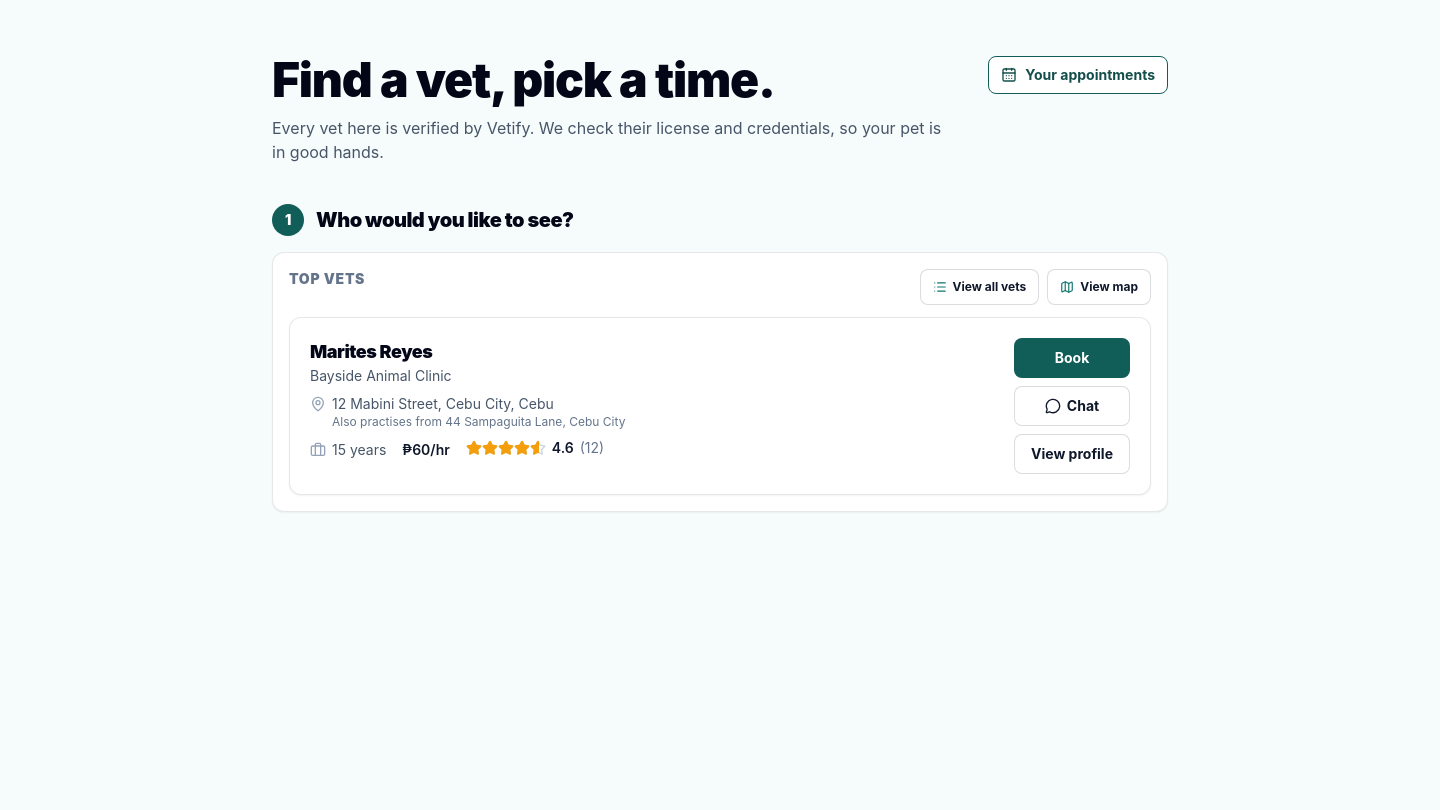
Test: the booking flow › holds the details form back until the time is chosen
Click the button "Book".
click(1072, 358)  # box [1014, 338, 1130, 378]
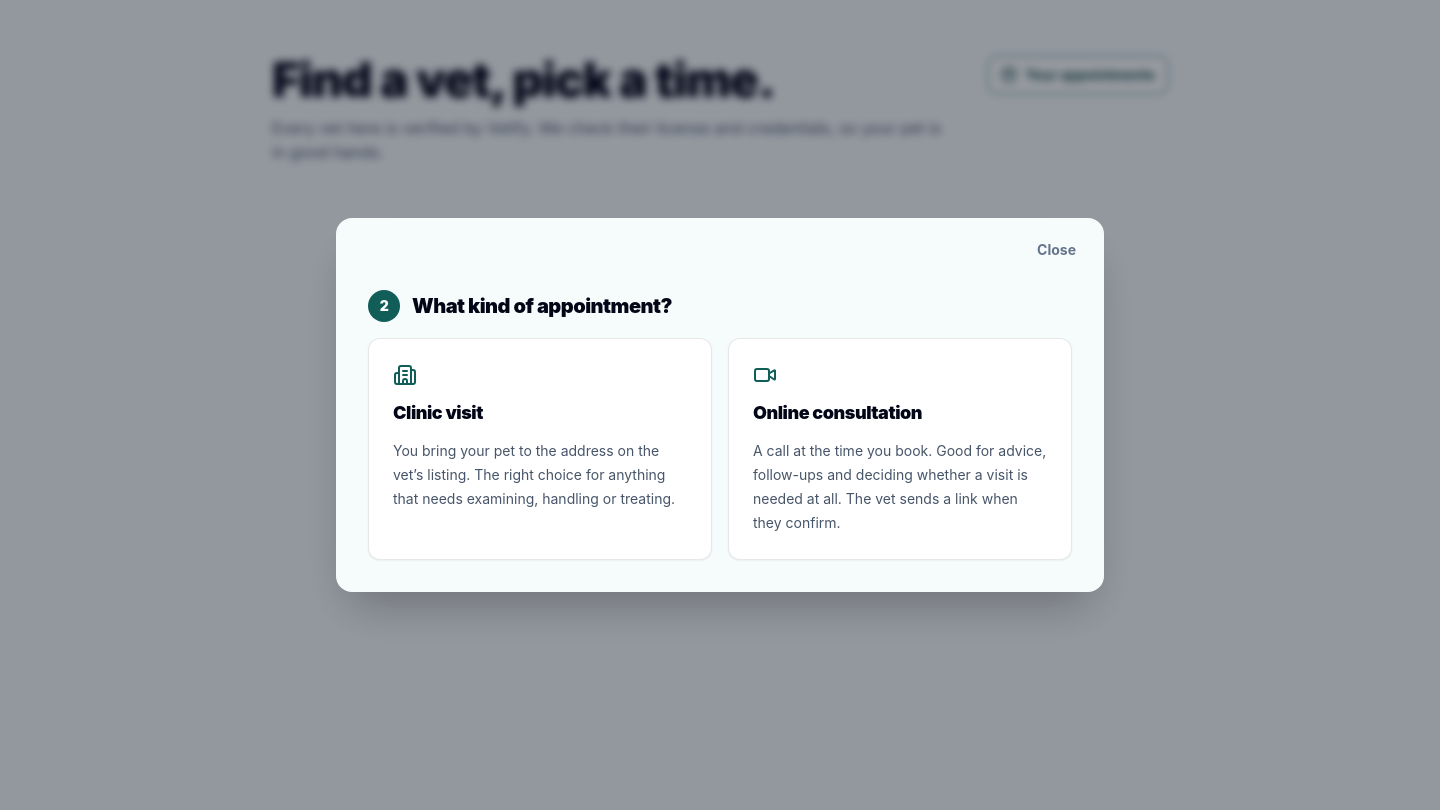
Click the button "Clinic visit".
click(540, 449)  # box [368, 338, 712, 560]
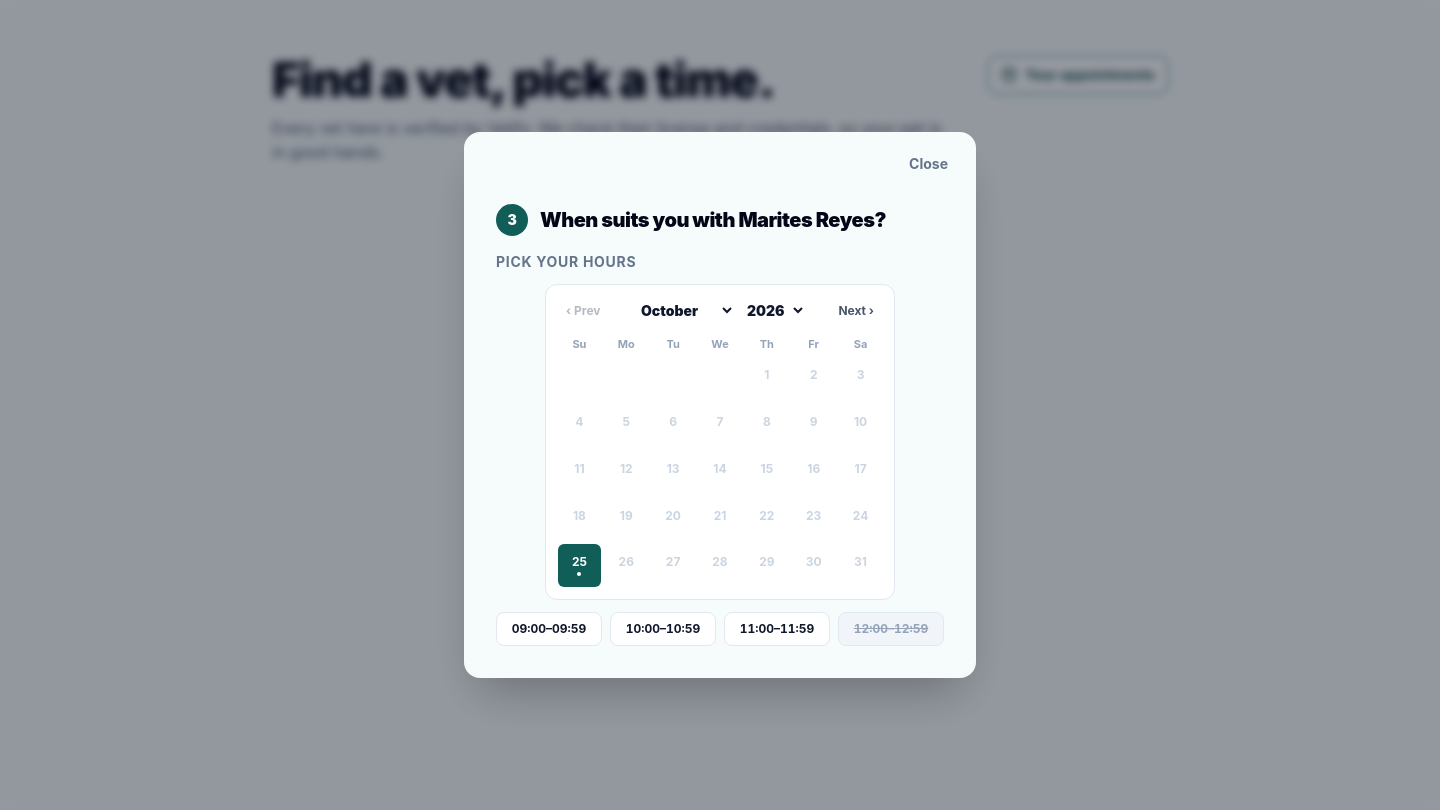
Click the button "09:00–09:59".
click(549, 629)  # box [496, 612, 602, 646]
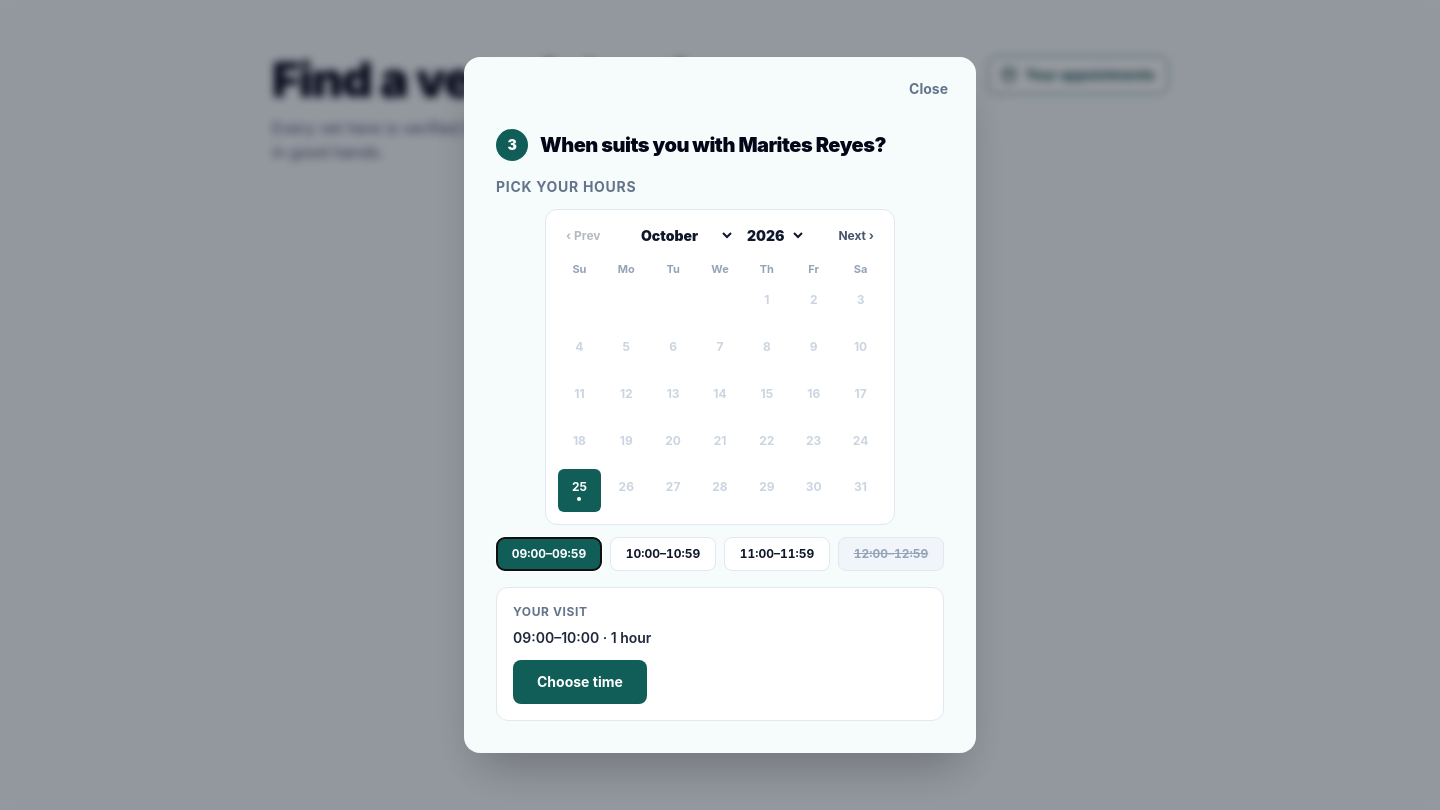
Check: the field labelled "Pet name (optional)" is not shown
Click the button "Choose time".
click(580, 682)  # box [513, 660, 647, 704]
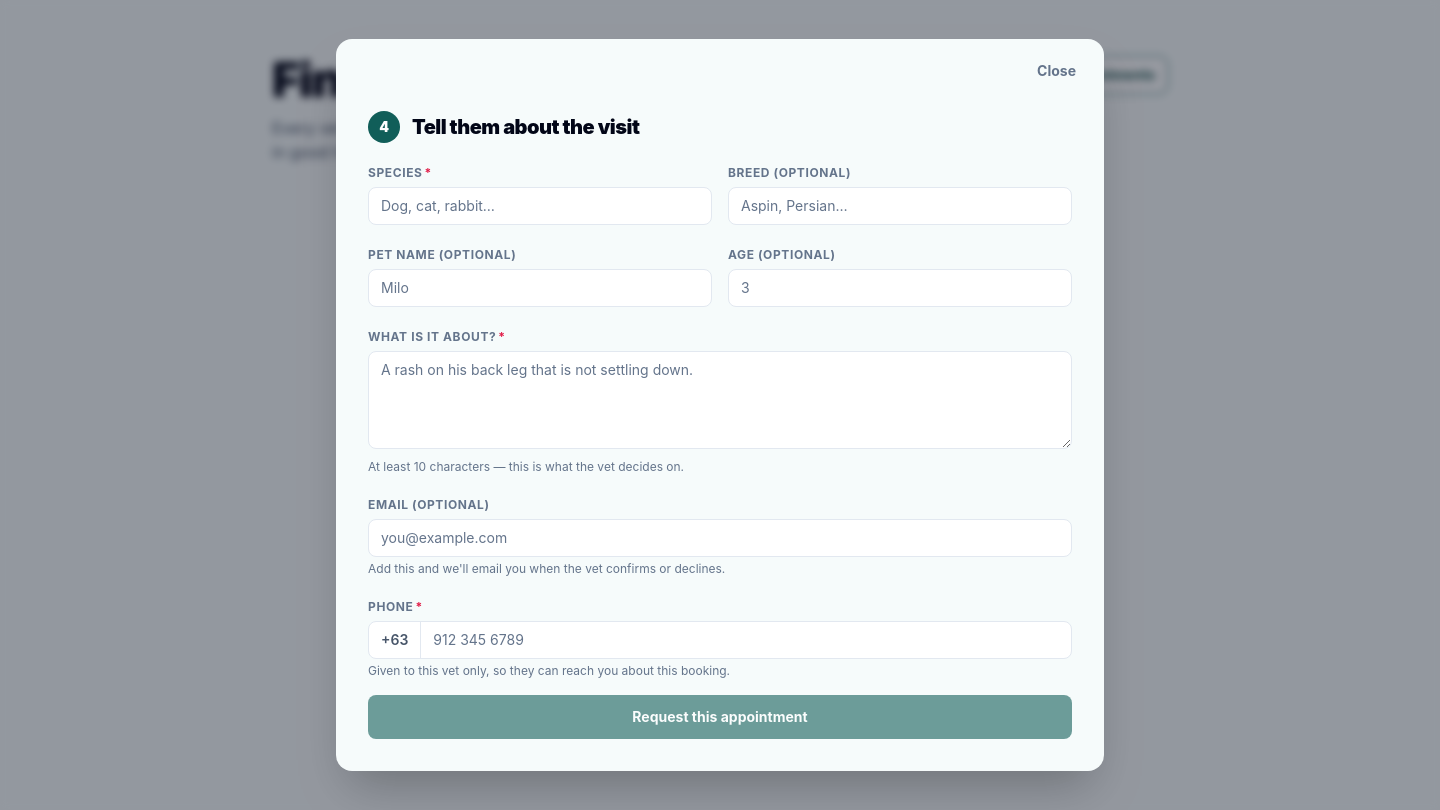
Check: the field labelled "Pet name (optional)" is shown, box [368, 269, 712, 307]
